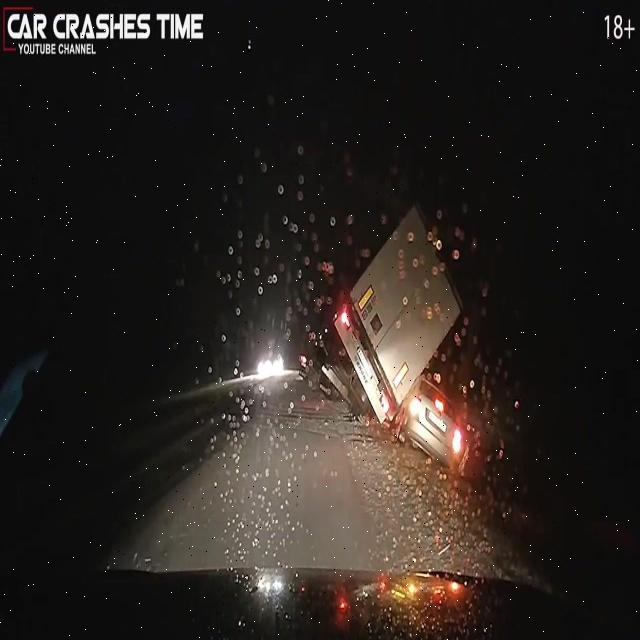severe: (301, 191, 468, 465)
